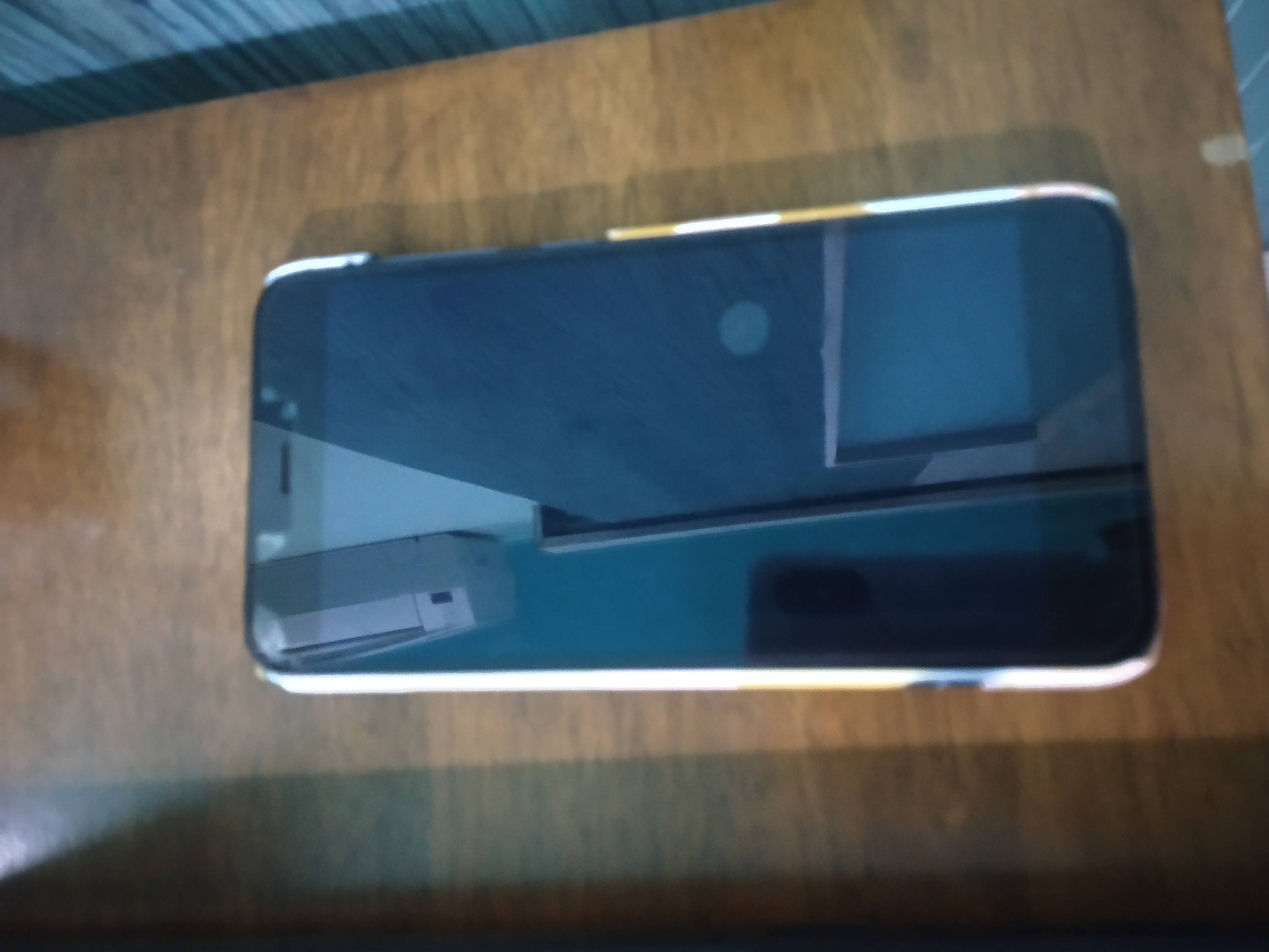Electronics: (221, 154, 1187, 723)
